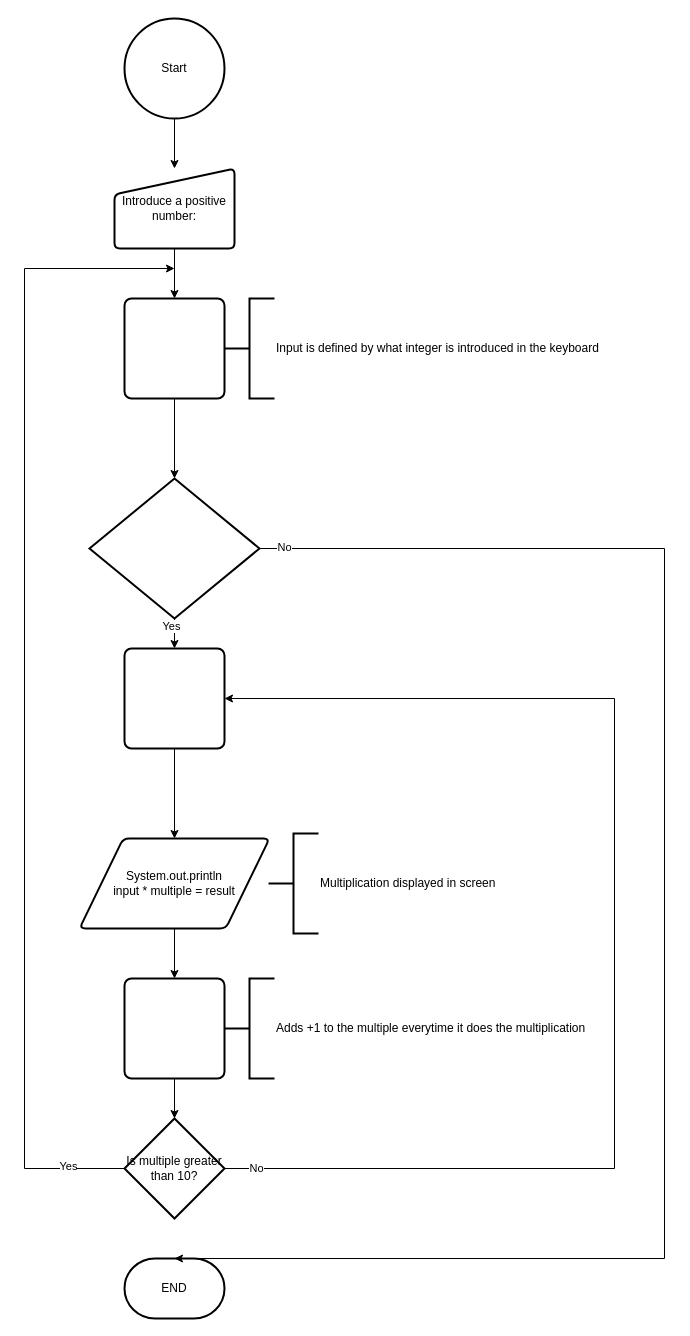
The diagram is 690 pixels wide and 1336 high, and some of its shapes have lost their labels. Here are the shapes that lost their labels. From the top down, the box of each, then its label:
(123, 297, 225, 399): multiplo = 1 input = keyboard.nextInt
(88, 477, 260, 619): Is input greater than 0?
(123, 647, 225, 749): result = input * multiple
(123, 977, 225, 1079): ++multiple
